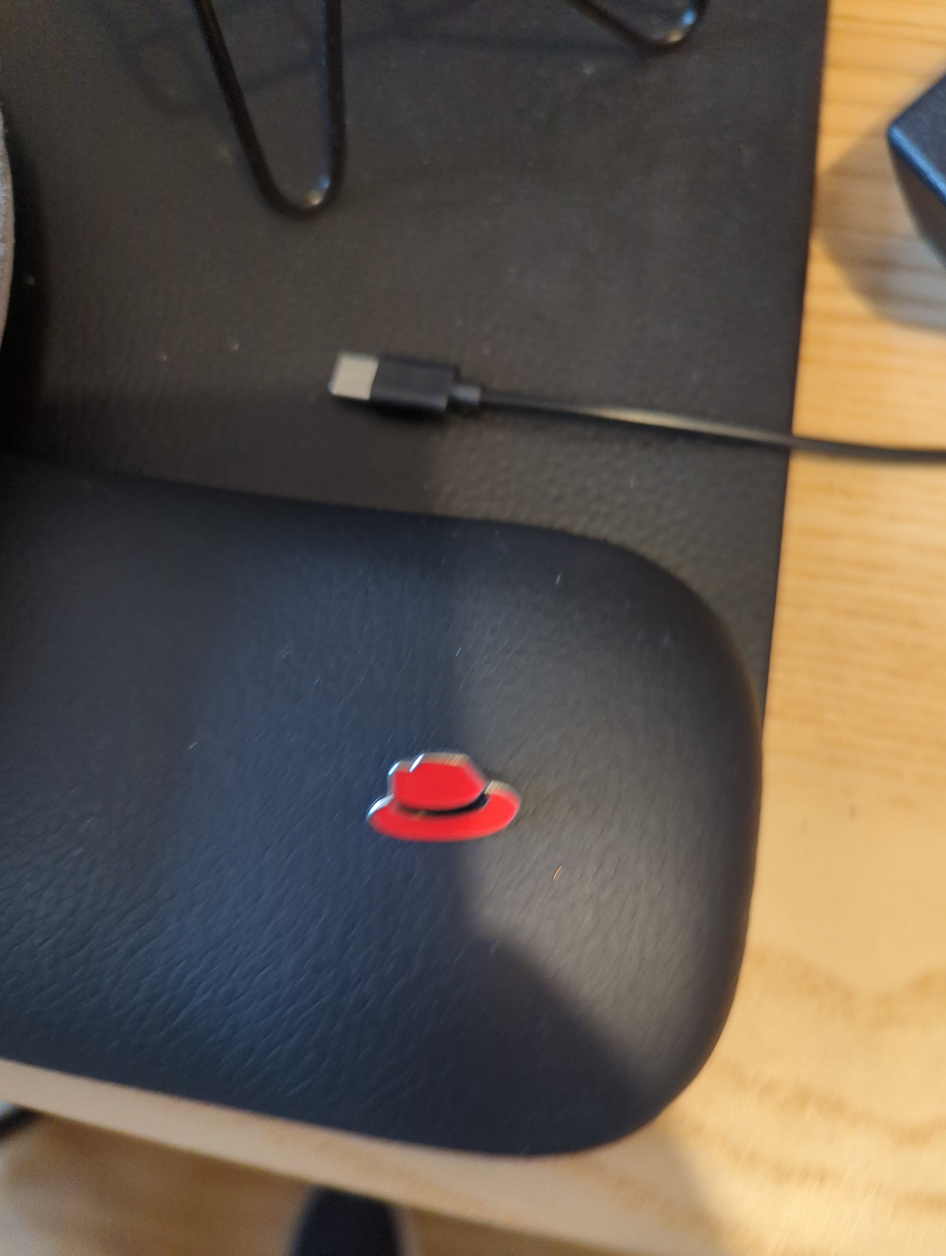Red-Hat: (306, 691, 644, 922)
